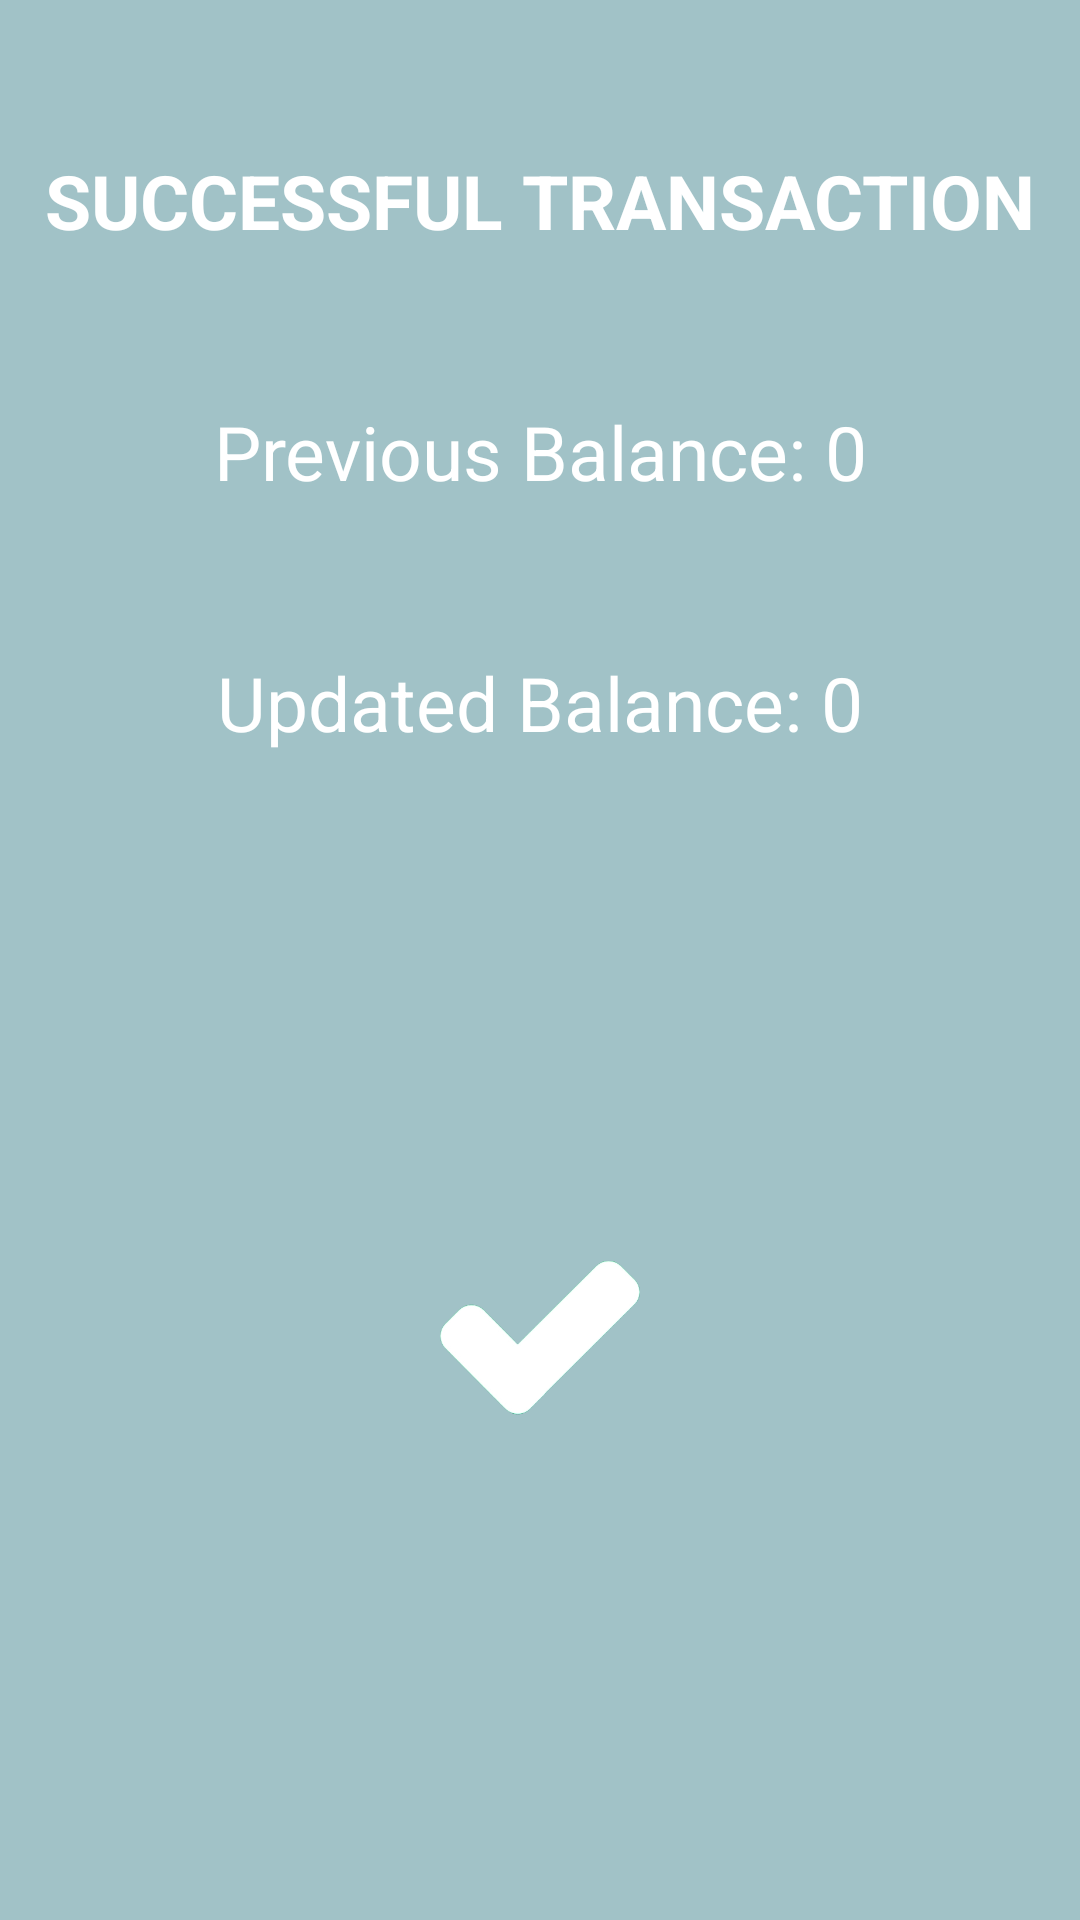

Named icons in this screenshot (1080w x 1920h) and their bounding boxes, [x1=x1, y1=y1, x2=x2, y2=y2]:
check: [x1=440, y1=1261, x2=640, y2=1415]
